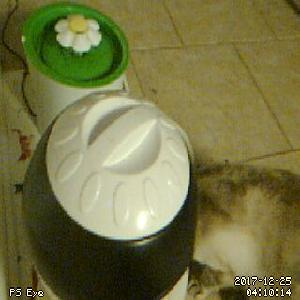cat: (186, 163, 300, 300)
fountain: (20, 3, 130, 89)
